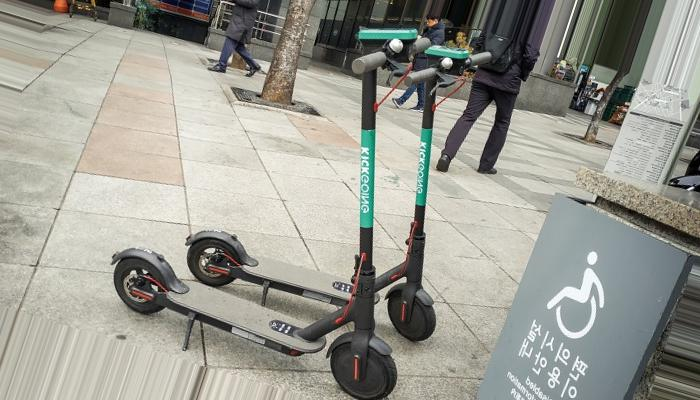scooter: (111, 36, 432, 400), (185, 49, 493, 342)
